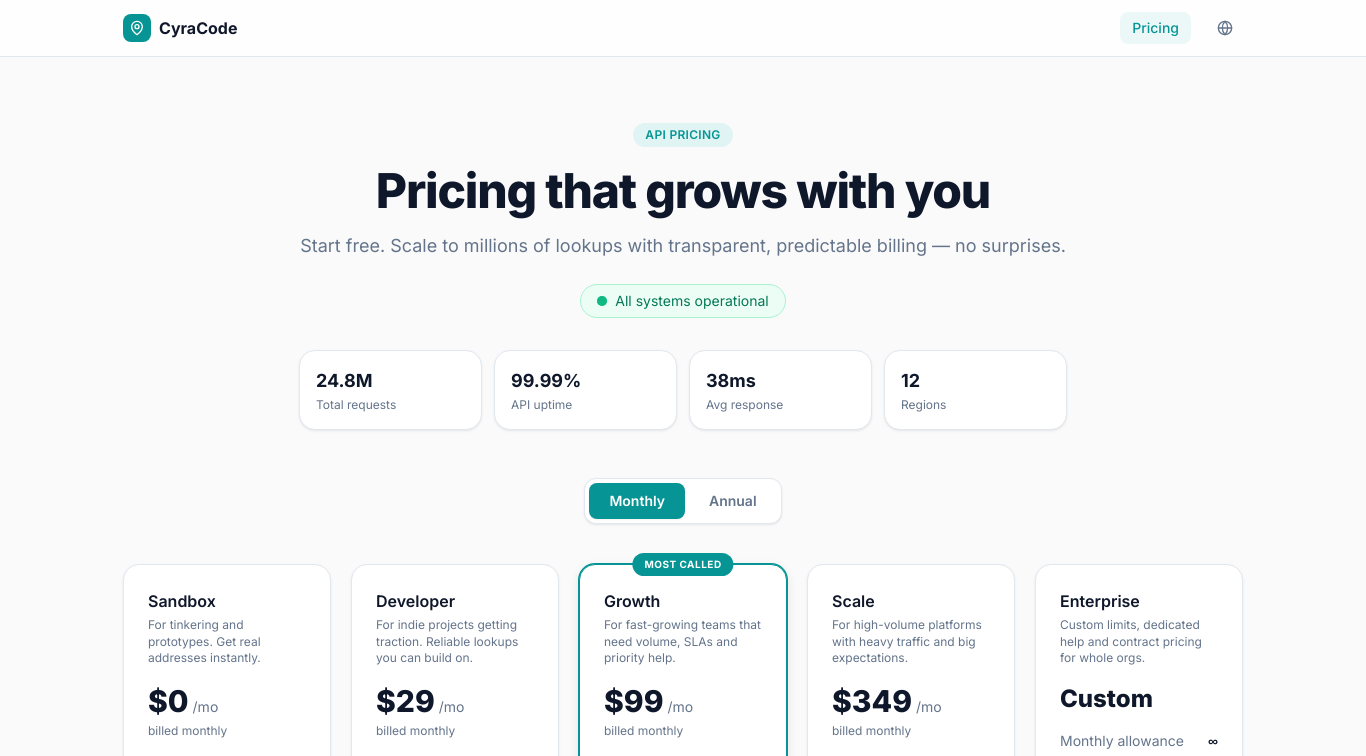
Test: PricingPage › shows monthly pricing by default and annual totals after toggling
The image size is (1366, 756).
Expected: the text "$99" is shown, [604,683,664,719]
Expected: the 3rd text "billed monthly" is shown, [604,723,683,738]
Click the button "Annual". click: (733, 501)
box: [689,483,777,519]
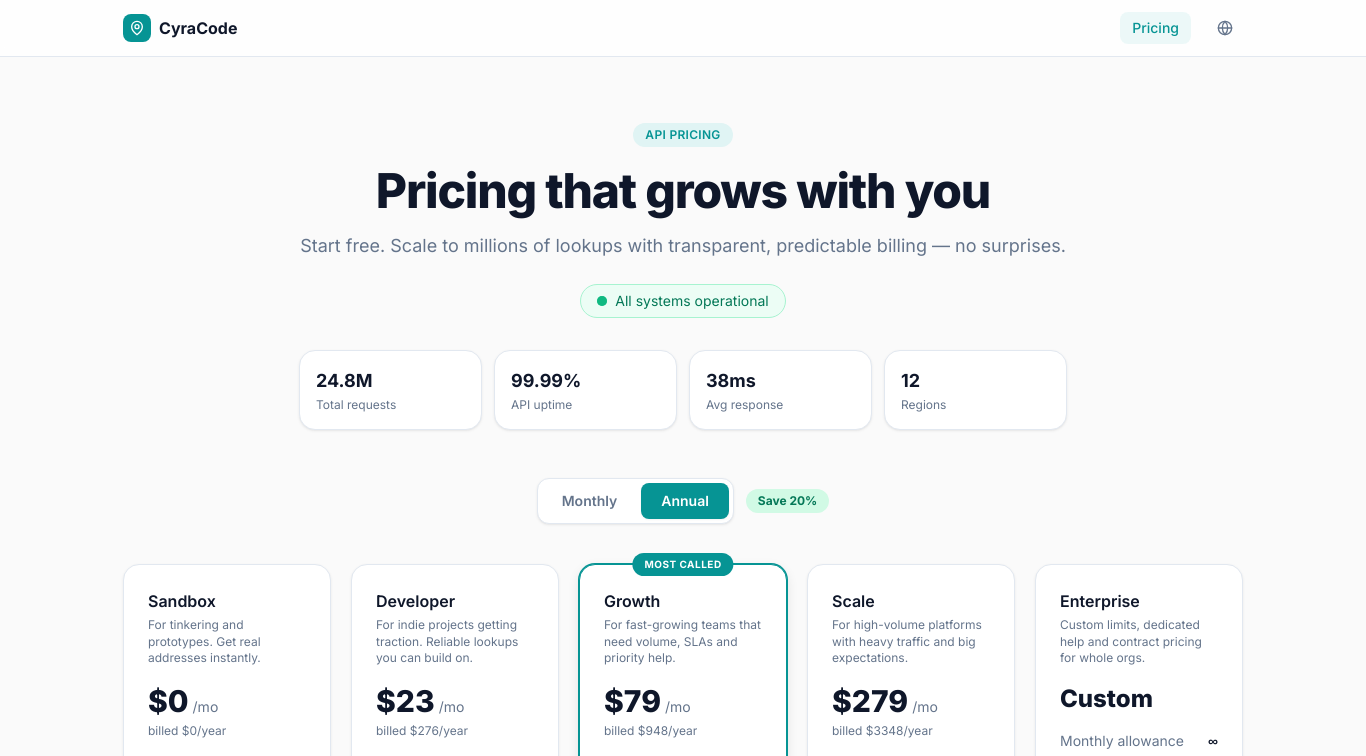
Expected: the text "$79" is shown, [604,683,661,719]
Expected: the text "billed $948/year" is shown, [604,723,697,738]
Expected: the text "Save 20%" is shown, [746,489,829,513]
